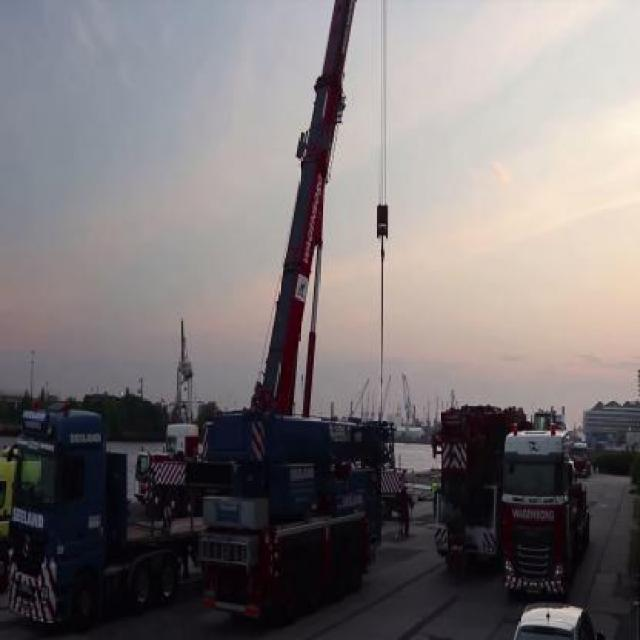Mobile Crane: (6, 0, 412, 634), (200, 409, 371, 622), (434, 402, 524, 566)
